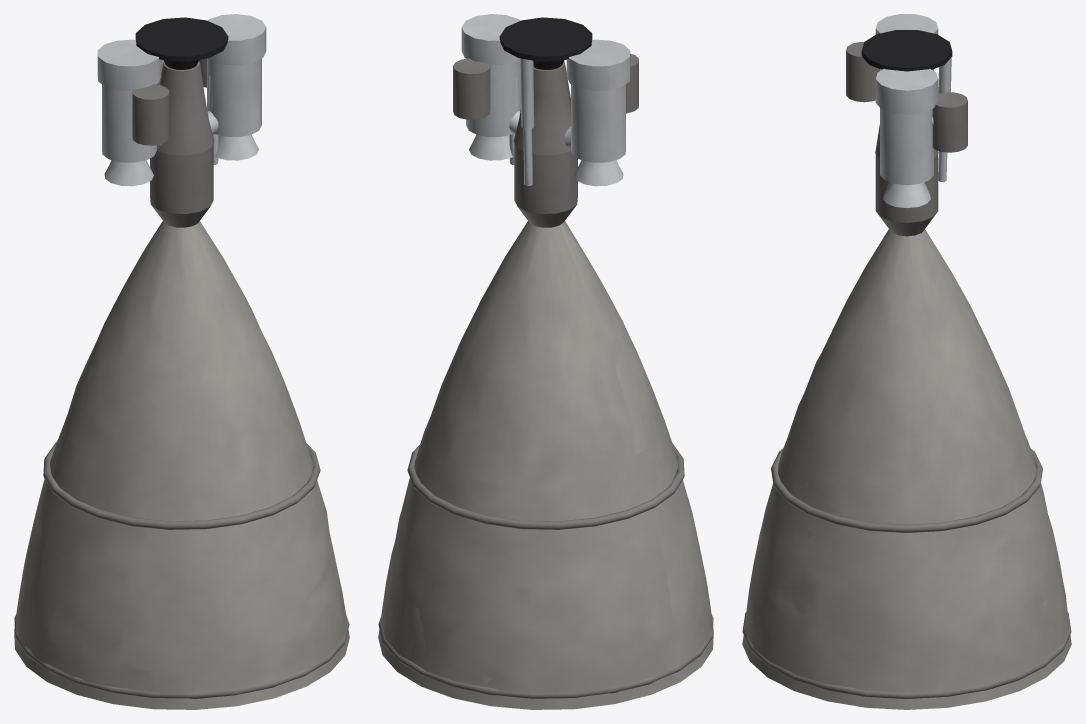
Rendered from prop11_raptor_vac.glb.
The picture shows the model from 3 angles, left to right: view 1: azimuth 30°, elevation 25°; view 2: azimuth 150°, elevation 25°; view 3: azimuth 270°, elevation 25°; orthographic projection.
Visible parts, largest first — view 1: nozzle, ox_turbopump, fuel_turbopump, nozzle_stiffeners, chamber, injector_dome, gimbal_mount, preburners; view 2: nozzle, fuel_turbopump, ox_turbopump, nozzle_stiffeners, chamber, gimbal_mount, injector_dome, preburners, gimbal_actuators; view 3: nozzle, ox_turbopump, nozzle_stiffeners, preburners, gimbal_mount, chamber, fuel_turbopump, gimbal_actuators.
Boxes of the visible parts, x1,y1,x2,y2 form: nozzle: [14, 221, 349, 709]; ox_turbopump: [207, 14, 266, 160]; fuel_turbopump: [97, 39, 161, 186]; nozzle_stiffeners: [14, 442, 349, 698]; chamber: [150, 143, 213, 227]; injector_dome: [157, 61, 214, 155]; gimbal_mount: [135, 17, 228, 69]; preburners: [132, 58, 206, 145]; nozzle: [378, 221, 713, 709]; fuel_turbopump: [566, 39, 630, 186]; ox_turbopump: [461, 14, 520, 160]; nozzle_stiffeners: [378, 443, 713, 698]; chamber: [514, 143, 577, 227]; gimbal_mount: [499, 17, 592, 69]; injector_dome: [513, 61, 570, 155]; preburners: [453, 53, 638, 119]; gimbal_actuators: [509, 58, 534, 185]; nozzle: [742, 229, 1071, 709]; ox_turbopump: [875, 68, 938, 207]; nozzle_stiffeners: [742, 448, 1071, 698]; preburners: [846, 42, 967, 152]; gimbal_mount: [861, 30, 952, 71]; chamber: [875, 154, 938, 236]; fuel_turbopump: [875, 14, 938, 70]; gimbal_actuators: [938, 57, 951, 182].
Size of the model in its own units: 2.32 by 4.6 by 2.32.
Materials: 4 (3 with a texture image).
